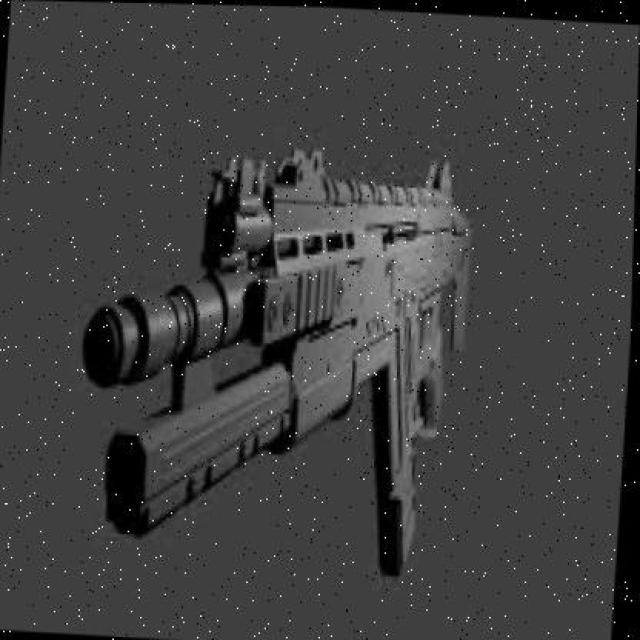weapon: (80, 148, 474, 580)
